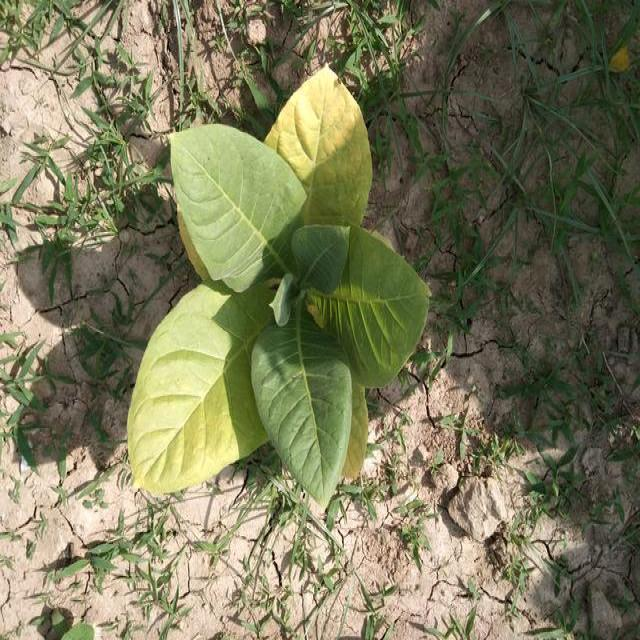crop: (120, 62, 438, 519)
